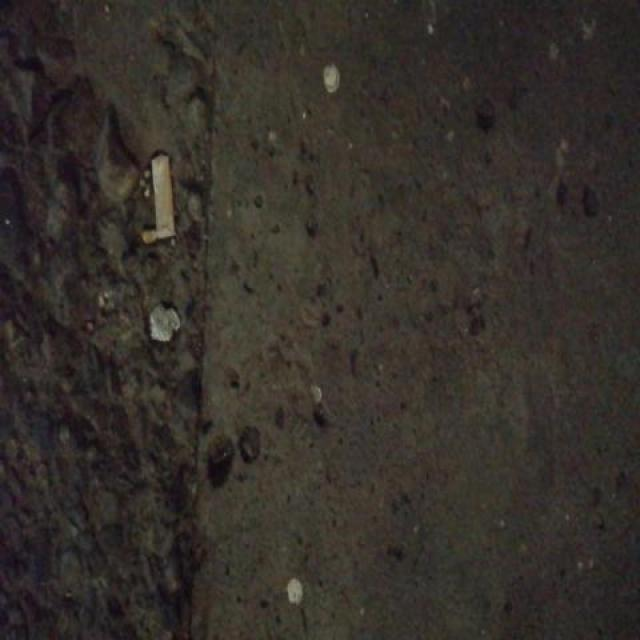non-organic waste: (146, 148, 178, 243)
